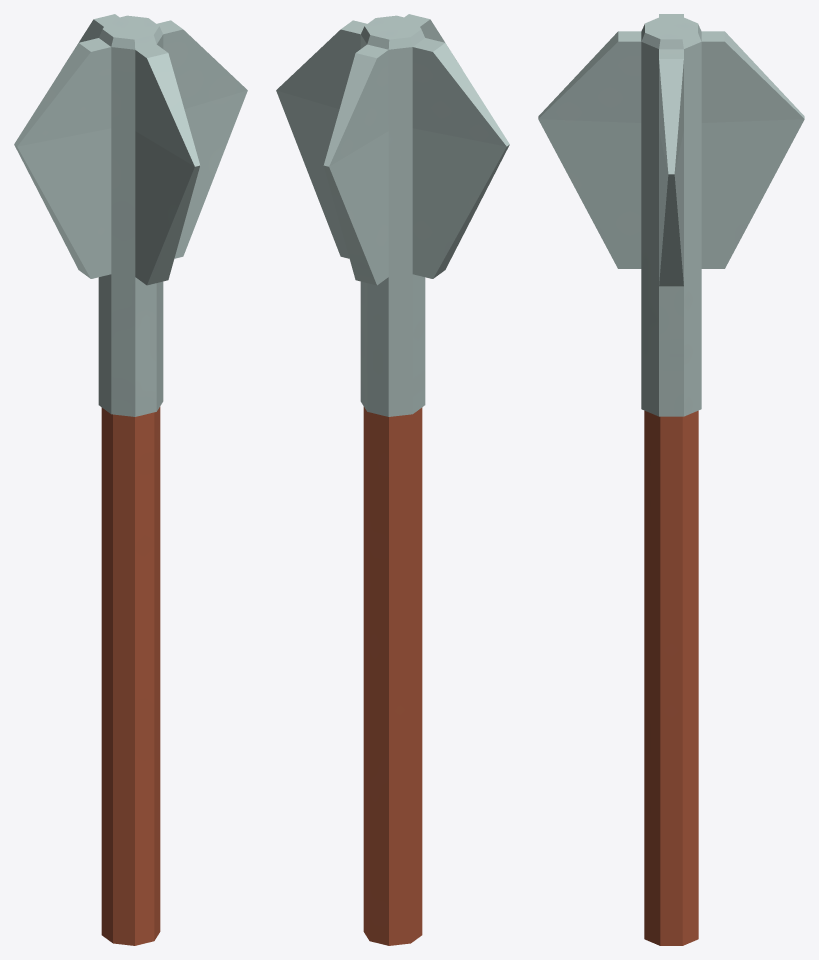
Rendered from Mace.glb.
The picture shows the model from 3 angles, left to right: view 1: azimuth 30°, elevation 25°; view 2: azimuth 150°, elevation 25°; view 3: azimuth 270°, elevation 25°; orthographic projection.
Parts seen in each view (by area): view 1: One handed mace; view 2: One handed mace; view 3: One handed mace.
Boxes of the visible parts, <box> form: One handed mace: <box>14,14,247,945</box>; One handed mace: <box>276,14,509,945</box>; One handed mace: <box>538,14,804,945</box>.
Size of the model in its own units: 0.1795 by 0.6734 by 0.1795.
Materials: 1 (1 with a texture image).
